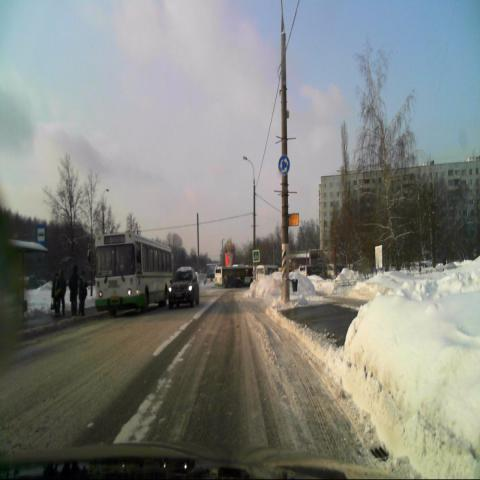4_3: (278, 156, 290, 176)
